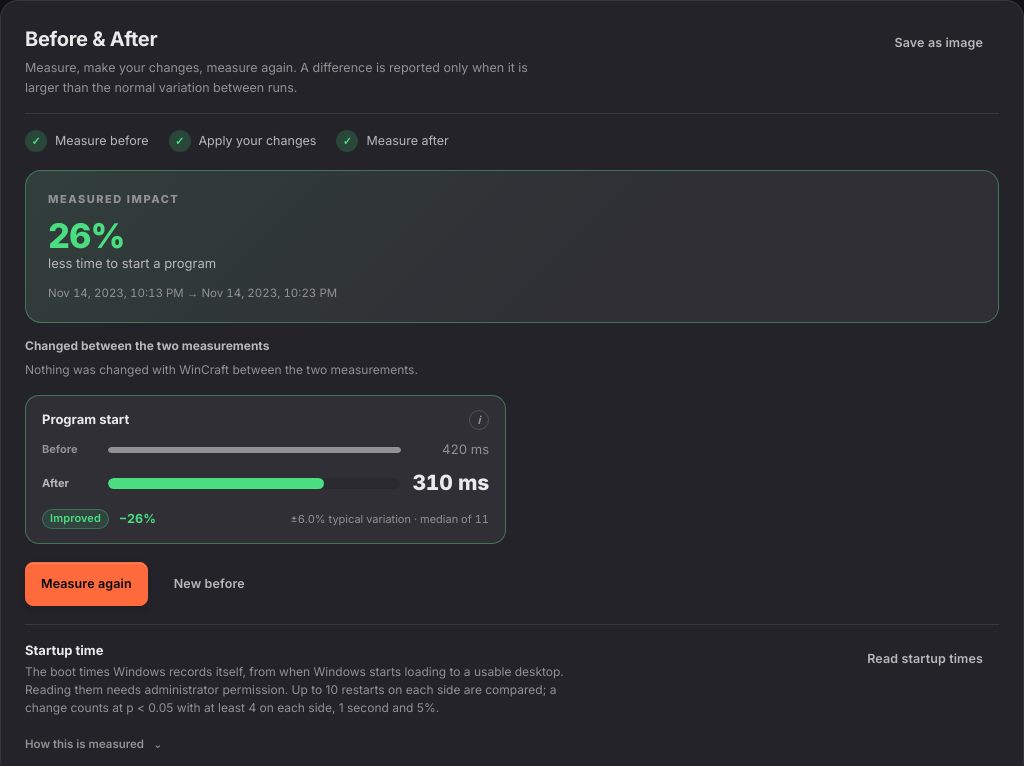
Test case: BeforeAfterPanel › says when Windows has recorded no startup times
What coordinates should you click on to do the following:
click the button "Read startup times"
I would click on:
 (925, 659)
Its box is [851,641,999,678].
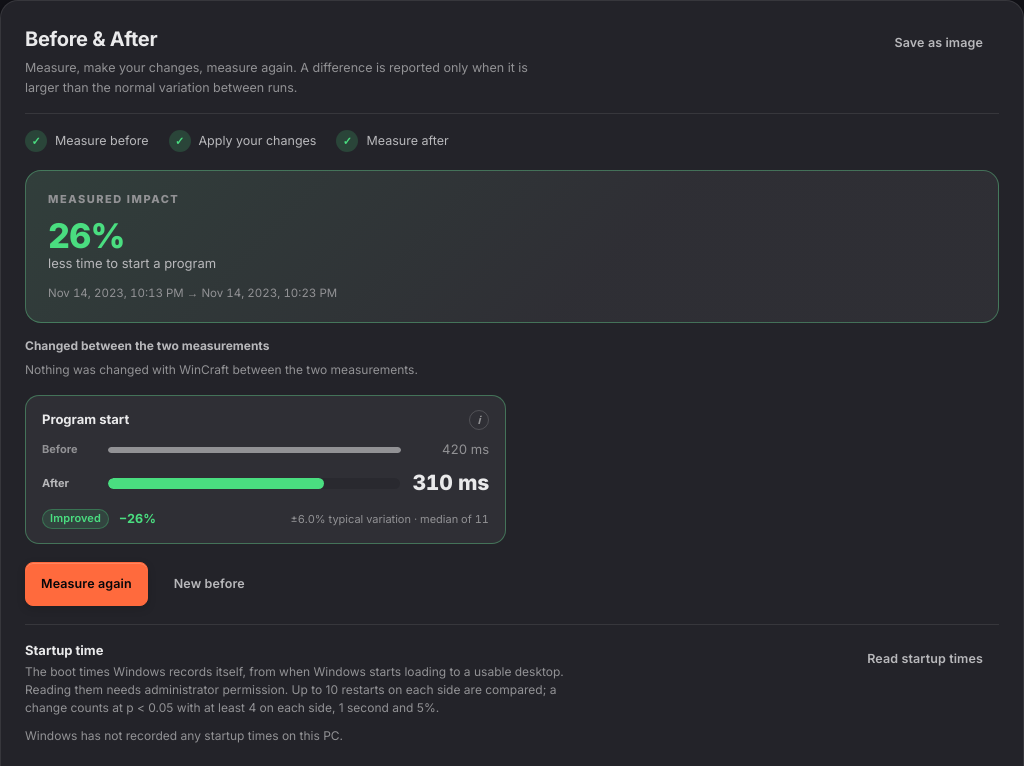
Now the text "Windows has not recorded any startup times on this PC." is shown, box [25,728,343,744]
